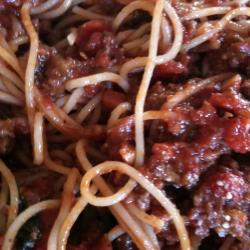bolonese_pasta: (3, 9, 215, 222)
